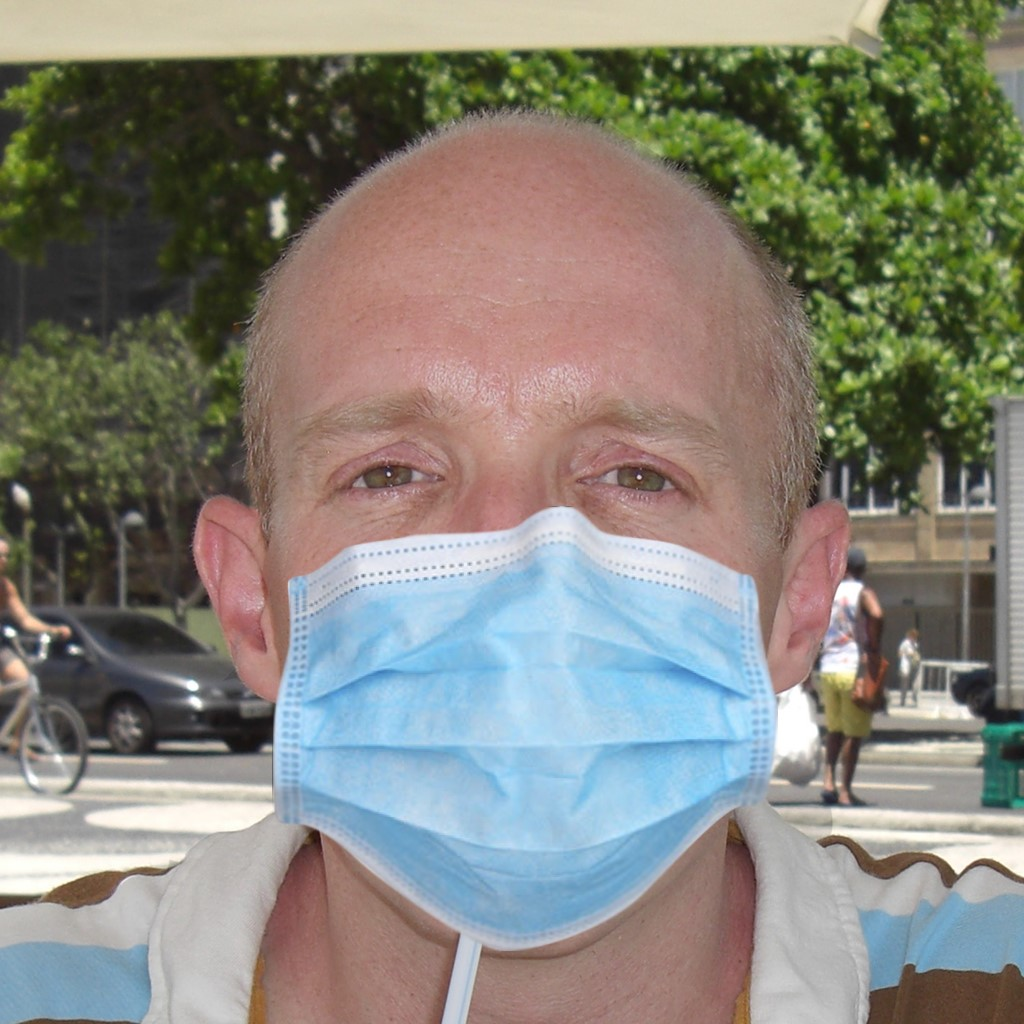con_mascara: (216, 162, 830, 954)
